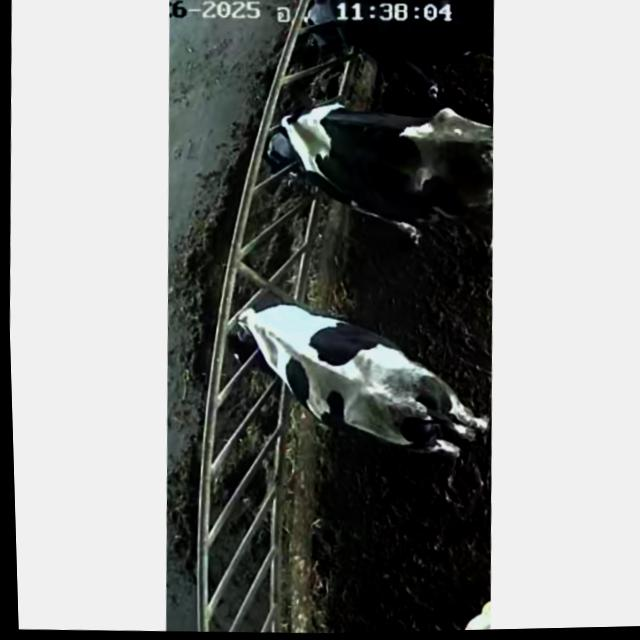eat: (213, 89, 394, 230), (180, 279, 346, 409), (255, 0, 429, 83)
